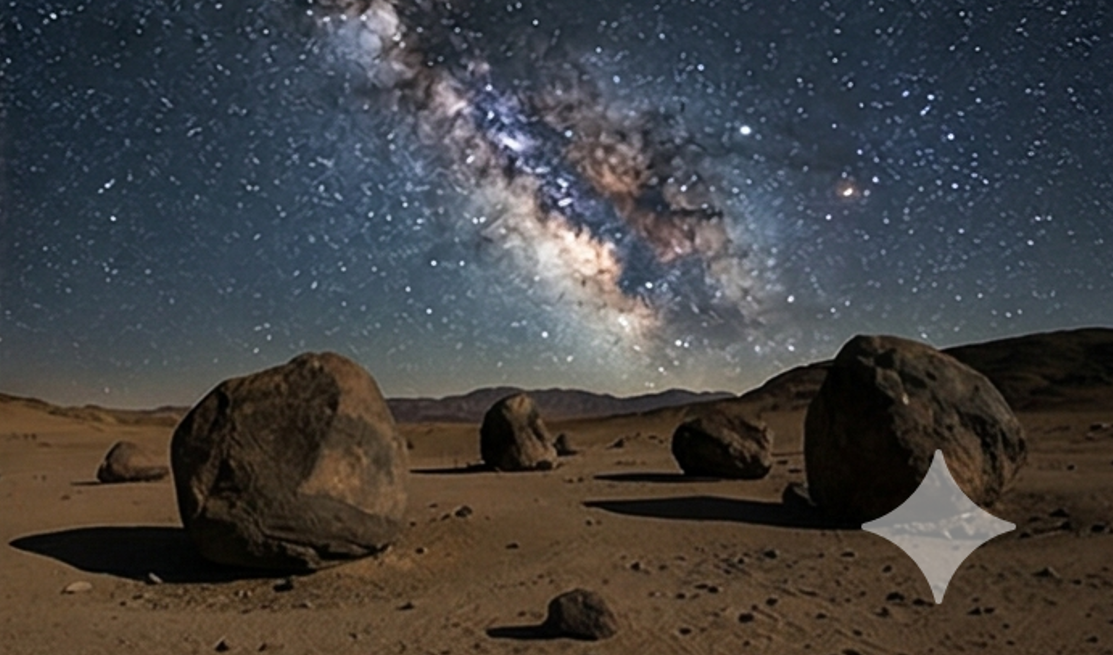rocks: (98, 353, 406, 570), (770, 336, 1028, 542), (670, 398, 771, 479), (480, 394, 556, 471), (543, 589, 616, 638)
